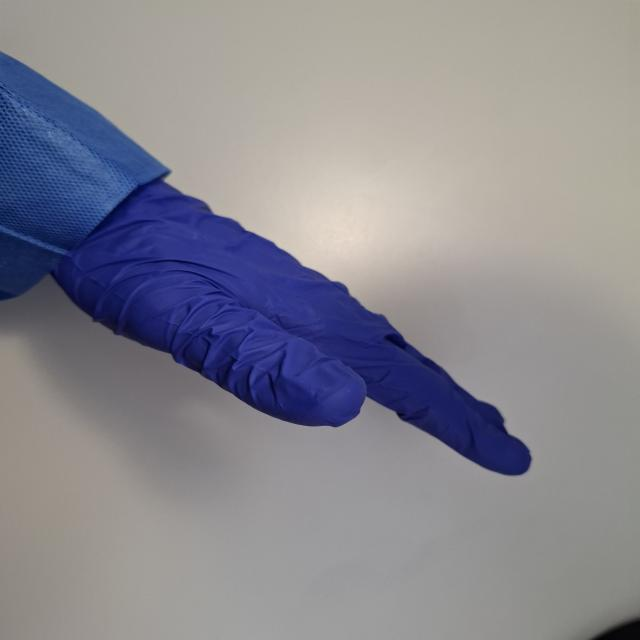glove_on: (44, 168, 541, 480)
